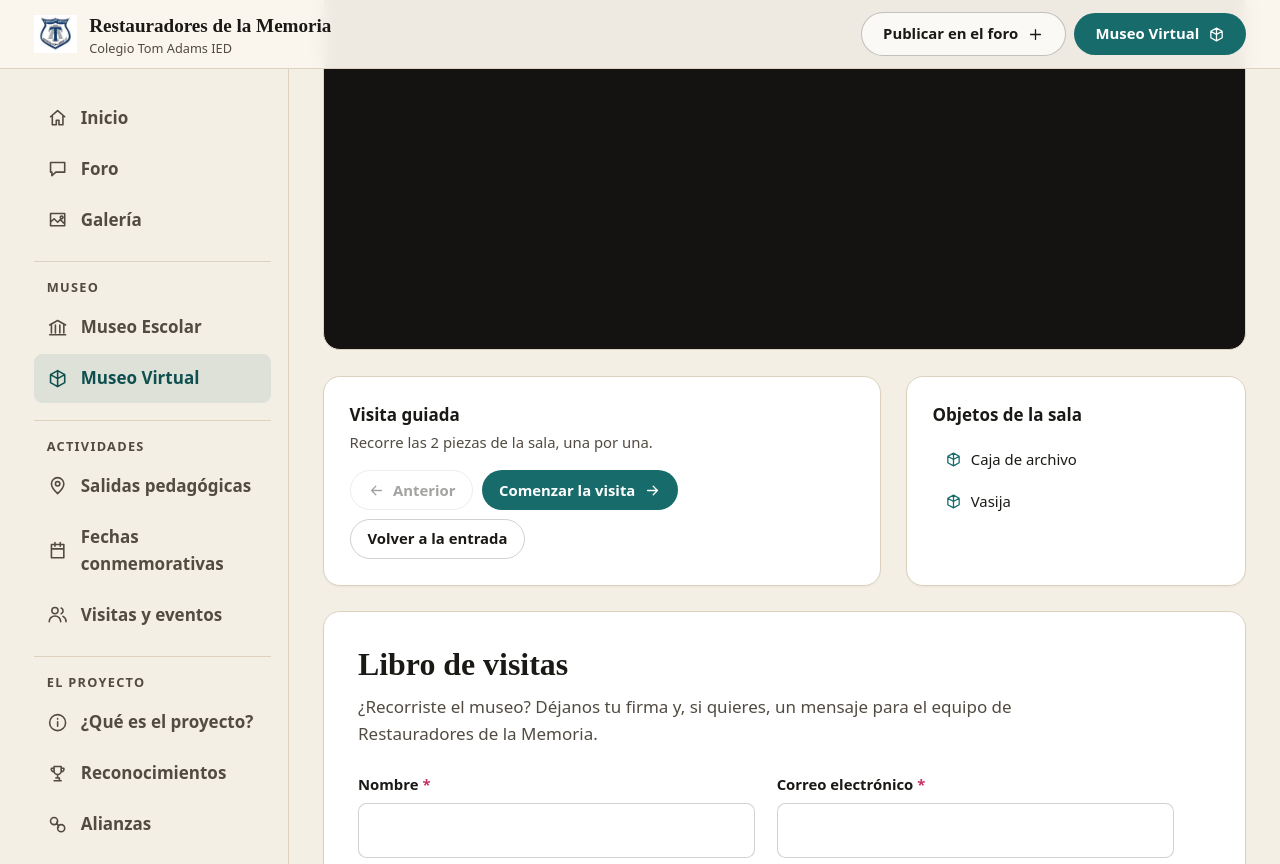
Test: Museo Virtual › ofrece una lista accesible de los objetos como alternativa a la escena 3D
(page scrolled)
Check: the navigation bar "Objetos de la sala" is shown, box [906,376,1246,586]
Click the button "Vasija".
click(991, 501)  # box [932,483,1220,521]
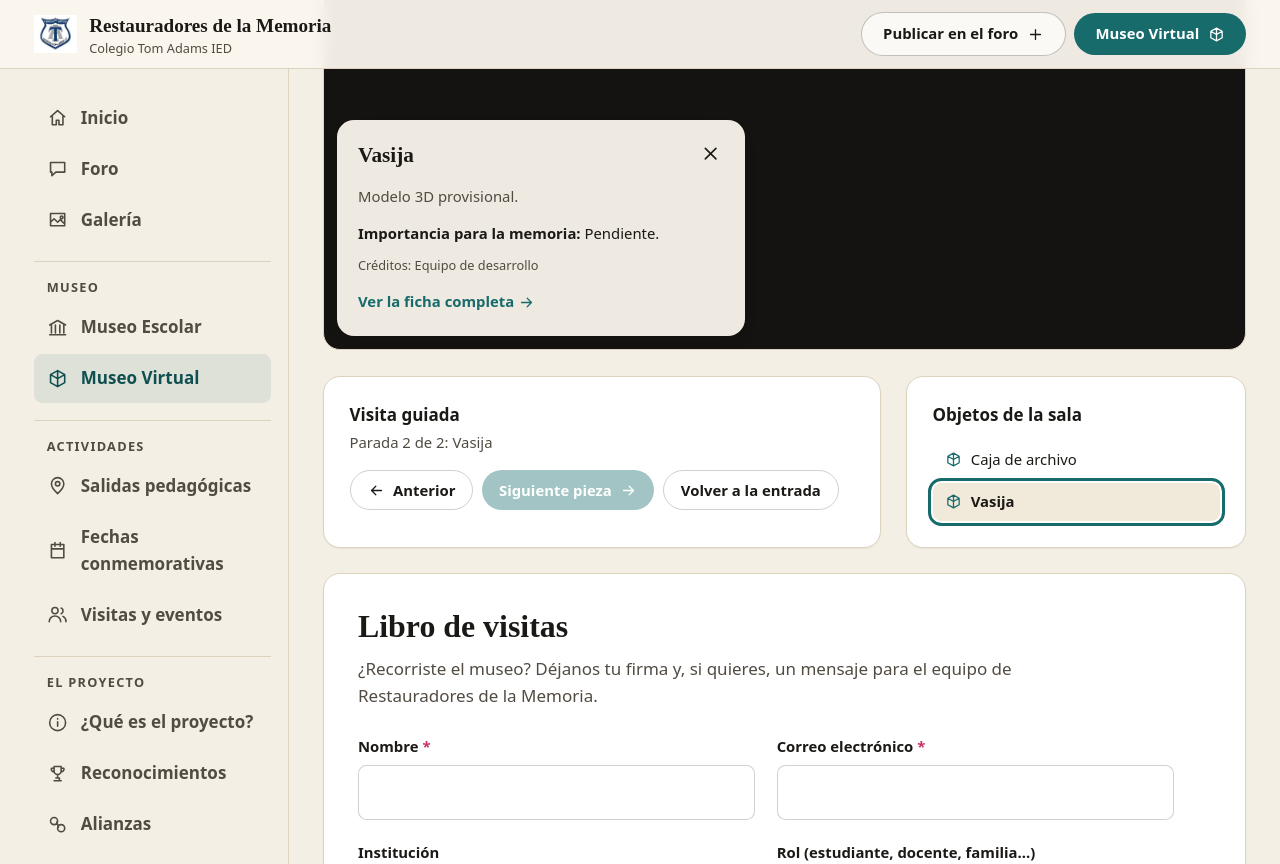
Check: the element named "Información de Vasija" is shown, box [337,120,745,336]
